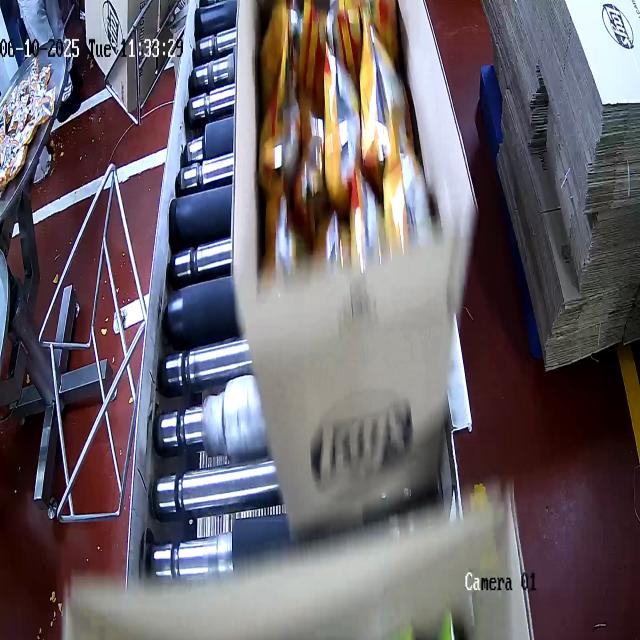FRENCH_CHEESE: (255, 0, 427, 273)
